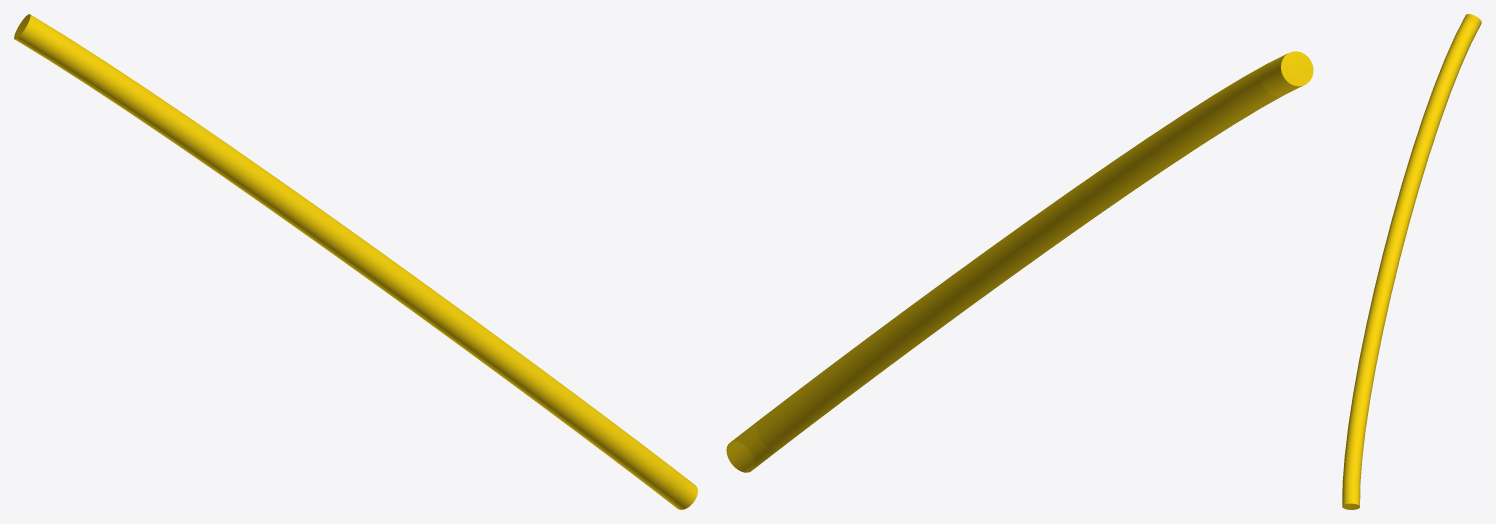
File: Event_421115418_track_187.fbx
The picture shows the model from 3 angles, left to right: view 1: azimuth 30°, elevation 25°; view 2: azimuth 150°, elevation 25°; view 3: azimuth 270°, elevation 25°; orthographic projection. The views are drawn at different scales.
Visible parts, largest first — view 1: Model; view 2: Model; view 3: Model.
Part boxes in pixels (<box>): Model: <box>14,14,697,509</box>; Model: <box>726,51,1313,472</box>; Model: <box>1342,14,1481,509</box>.
Bounding box in the file's own units: 0.9025 × 0.8229 × 0.3115.
